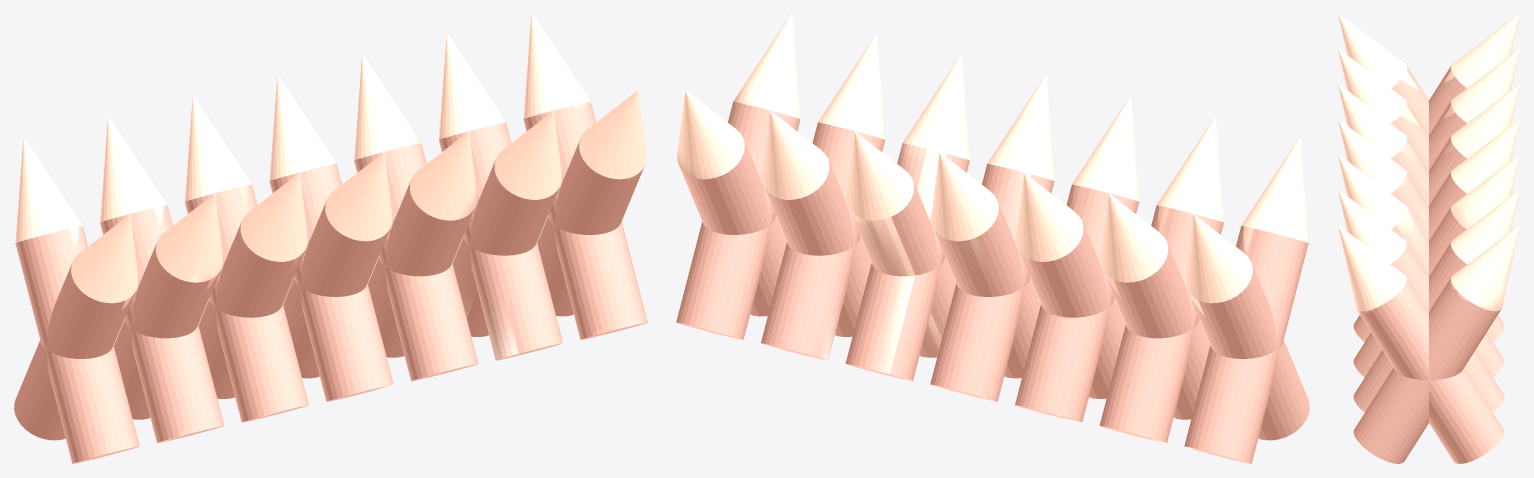
Rendered from barıyer.fbx.
The picture shows the model from 3 angles, left to right: view 1: azimuth 30°, elevation 25°; view 2: azimuth 150°, elevation 25°; view 3: azimuth 270°, elevation 25°; orthographic projection. The views are drawn at different scales.
Visible parts, largest first — view 1: Cylinder.001, Cylinder; view 2: Cylinder, Cylinder.001; view 3: Cylinder, Cylinder.001.
Part boxes in pixels (x1,y1,x2,y2): Cylinder.001: (15, 14, 647, 463); Cylinder: (14, 90, 646, 440); Cylinder: (676, 14, 1308, 463); Cylinder.001: (677, 90, 1309, 440); Cylinder: (1338, 14, 1504, 463); Cylinder.001: (1353, 14, 1519, 463).
Size of the model in its own units: 389 by 179 by 126.
